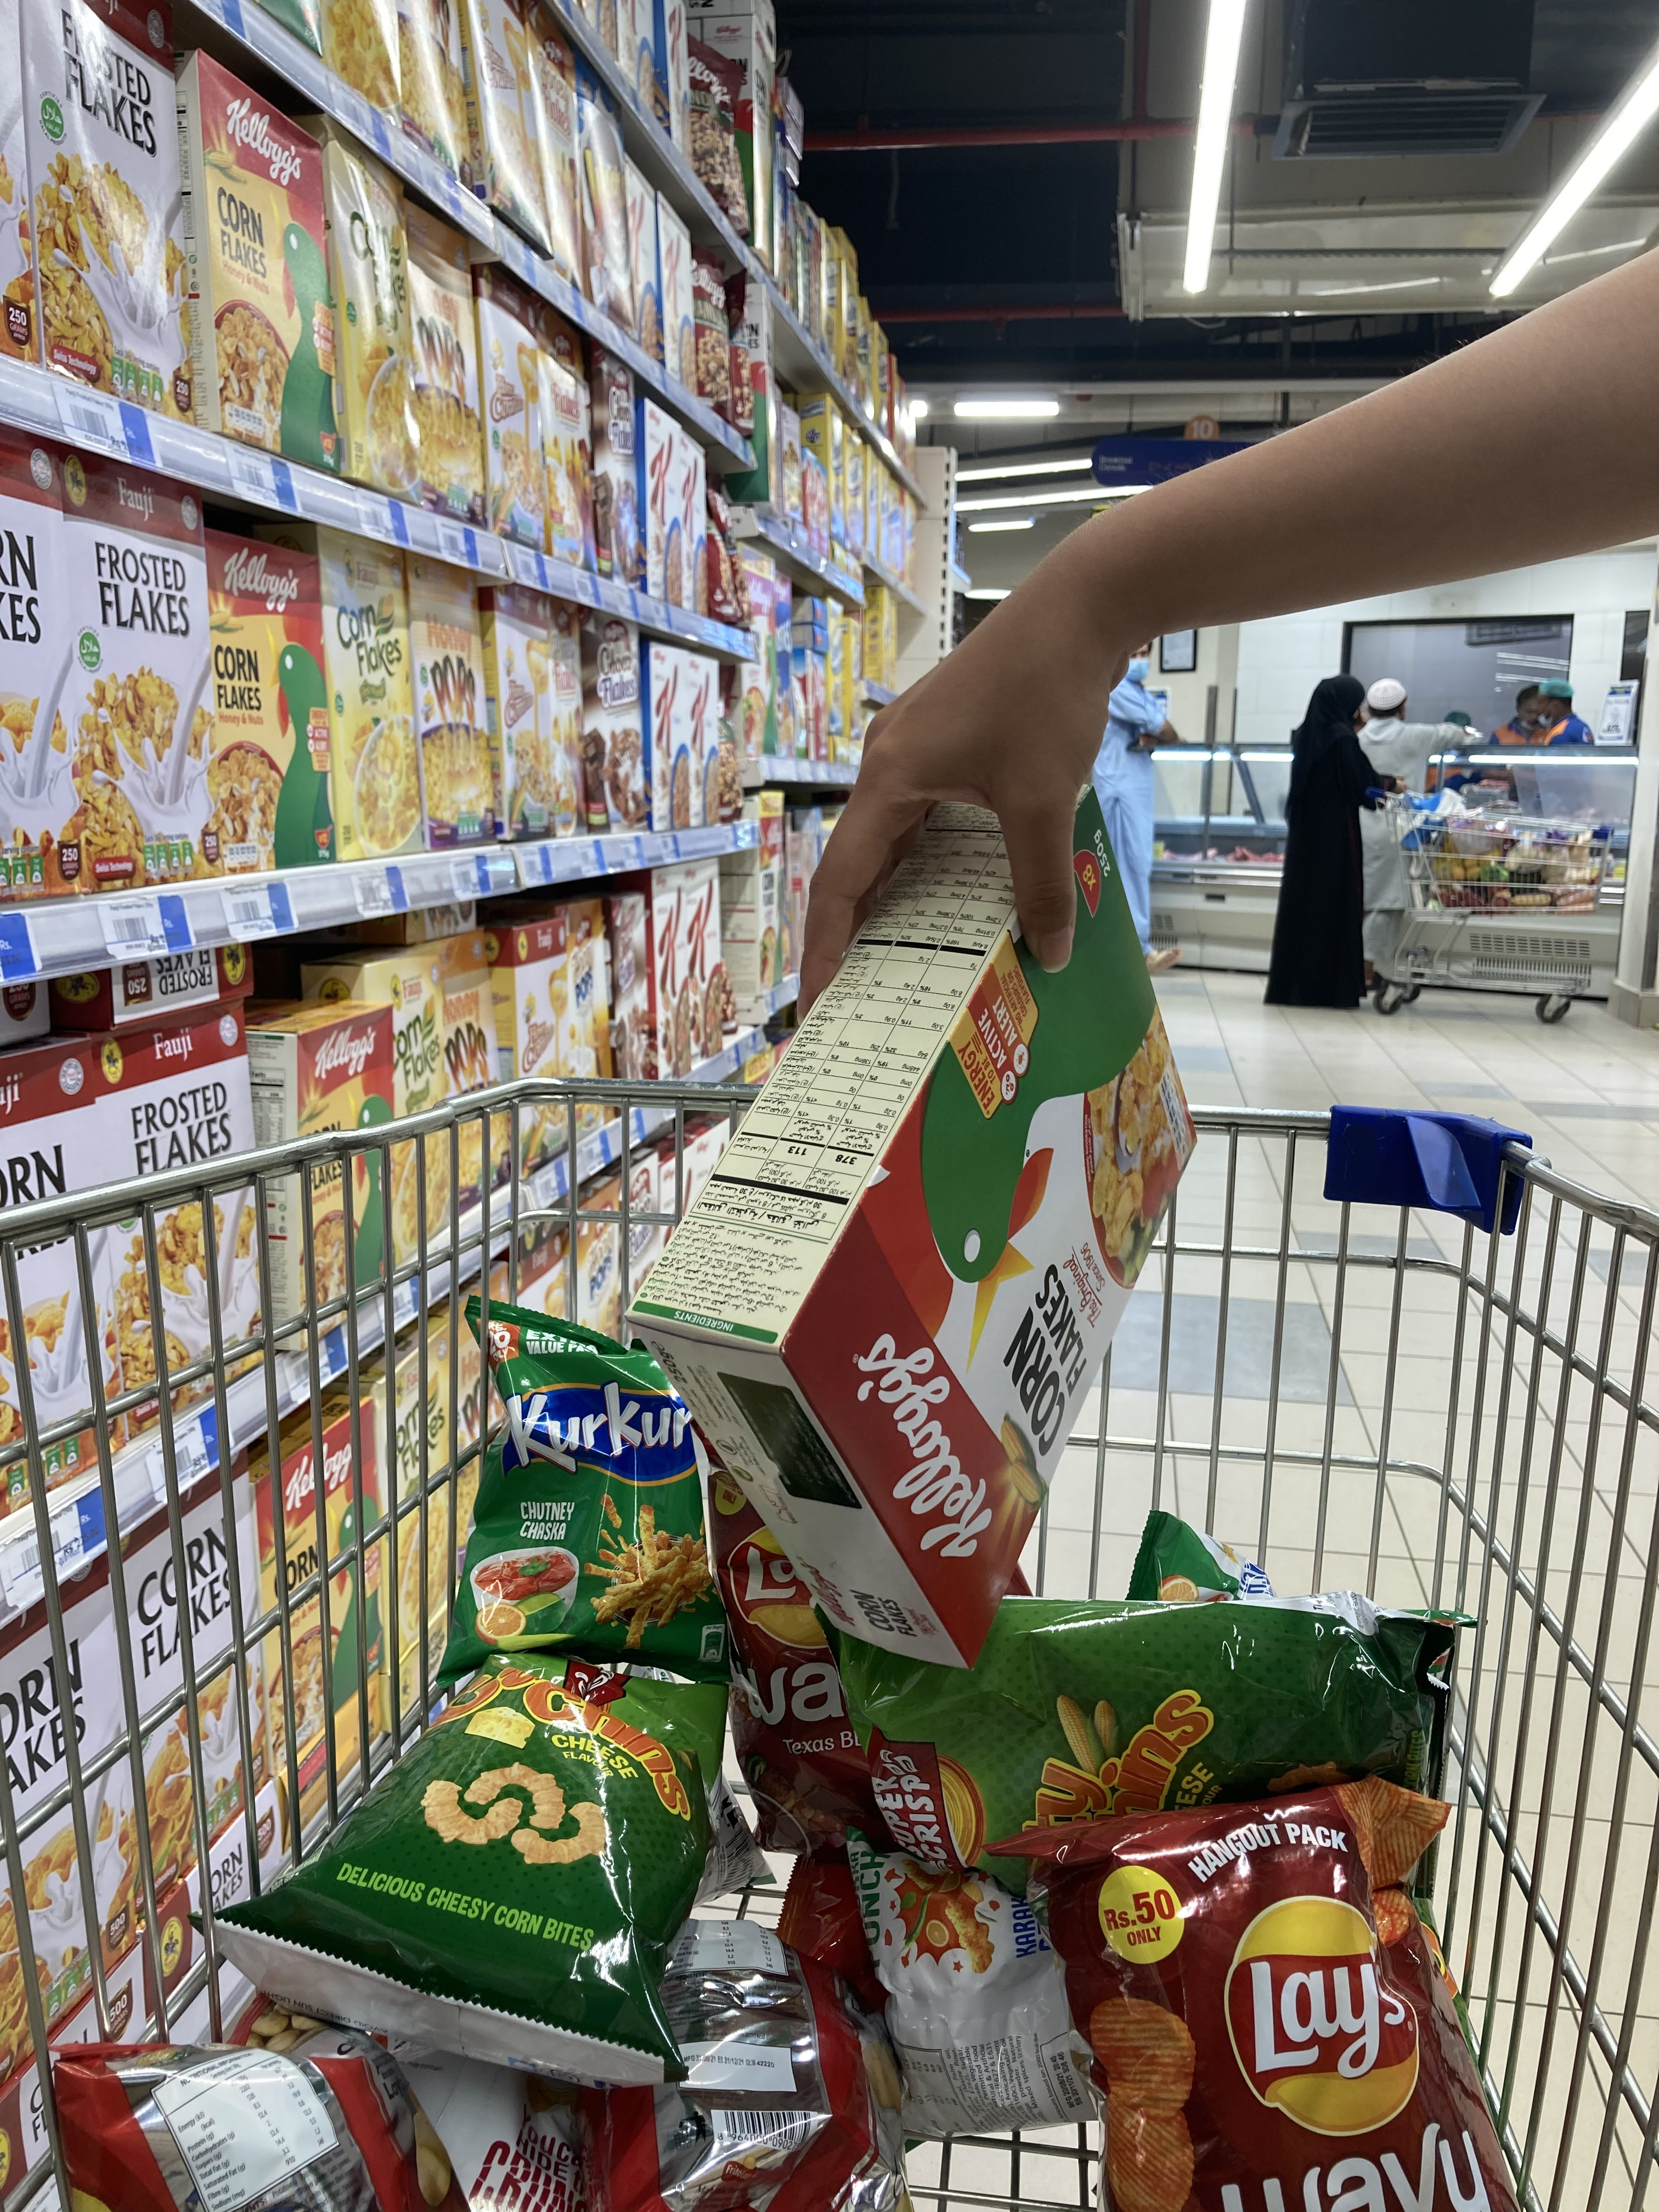Kellogg's Corn Flakes: (615, 780, 1236, 1683)
